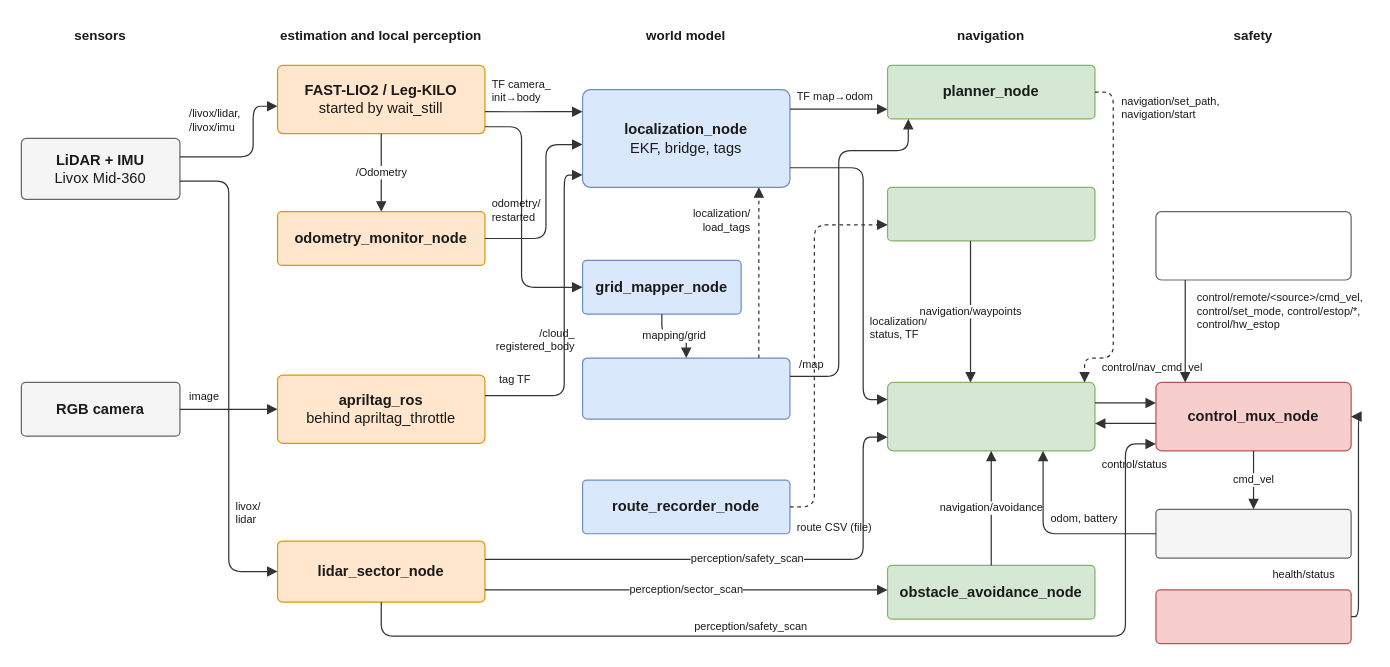
This 1390x667 diagram has some shape labels left out. Here are the shapes that lost their labels. From the top down, the centre of each, then its label:
At (x=990, y=213): "path_loader_node".
At (x=1253, y=245): "operator RViz panels, handheld".
At (x=685, y=388): "site_manager_node sites, the only /map".
At (x=990, y=416): "path_follower_node".
At (x=1253, y=533): "robot driver (product)".
At (x=1253, y=616): "health_monitor_node".
